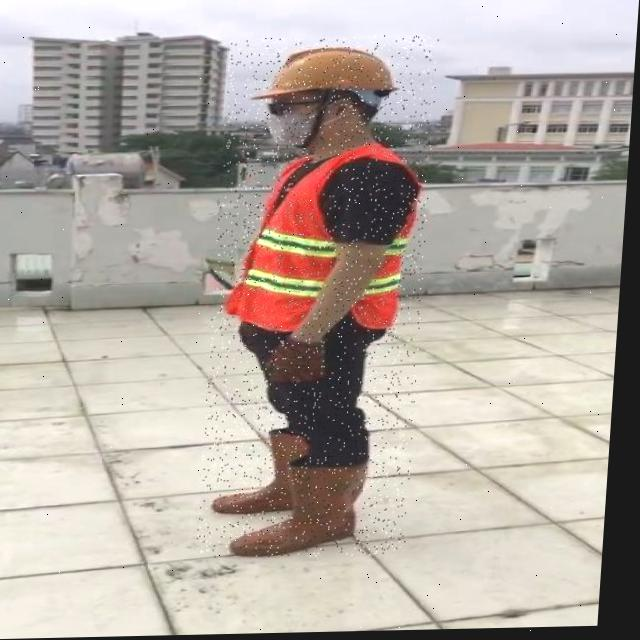Gloves: (270, 336, 334, 386)
Helmet: (249, 47, 402, 110)
Safety-Boot: (235, 458, 375, 558), (217, 427, 317, 516)
Safety-Vest: (224, 142, 425, 339)
